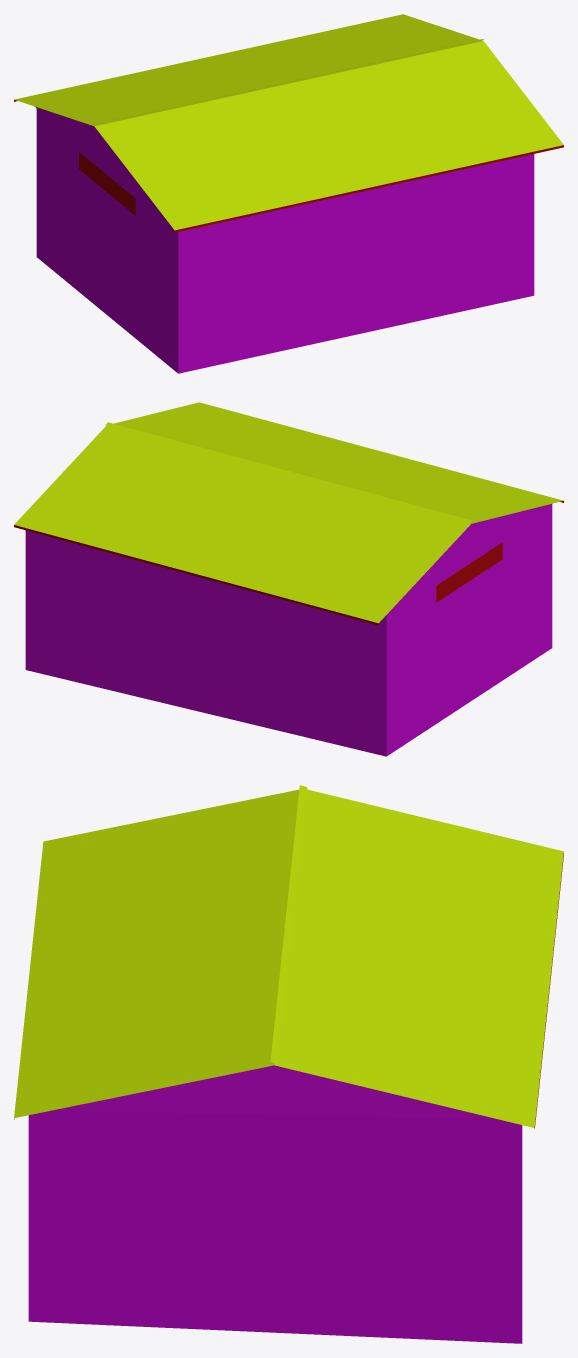
File: bgj_263.glb
The picture shows the model from 3 angles, top to bottom: view 1: azimuth 30°, elevation 25°; view 2: azimuth 150°, elevation 25°; view 3: azimuth 270°, elevation 25°; orthographic projection. The views are drawn at different scales.
Parts seen in each view (by area): view 1: bgj_263; view 2: bgj_263; view 3: bgj_263.
Boxes of the visible parts, x1,y1,x2,y2 form: bgj_263: (14,14,563,373); bgj_263: (14,402,563,756); bgj_263: (14,785,563,1343).
Size of the model in its own units: 21.25 by 9.77 by 17.23.
